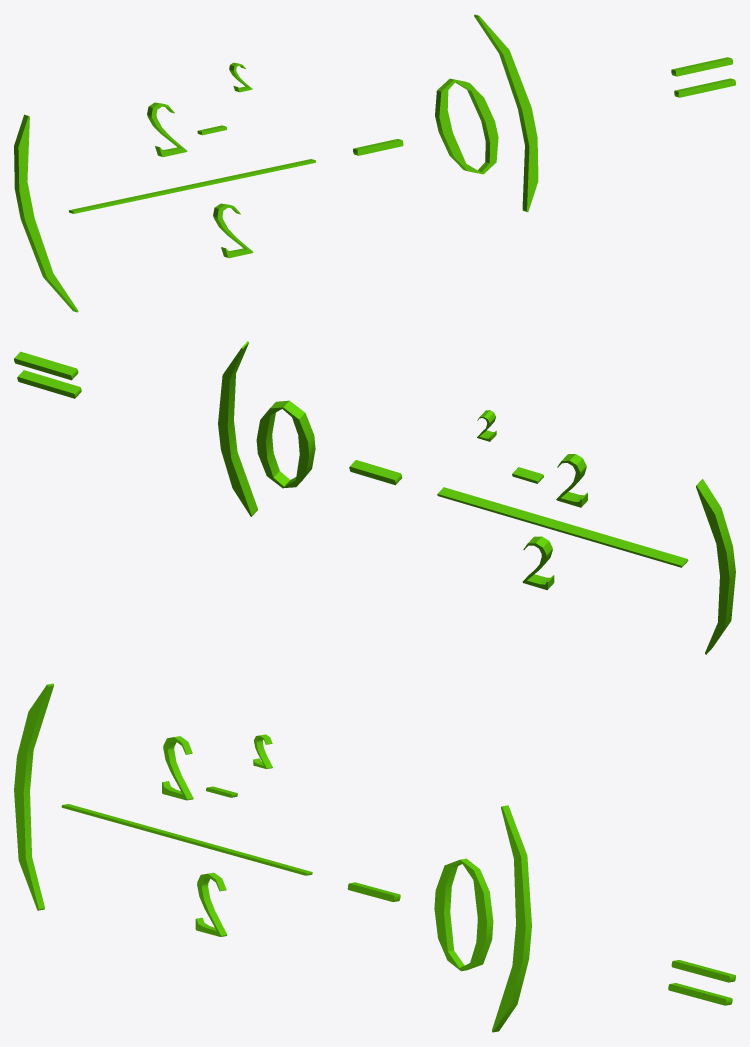
The model's file is blank_formulaC.fbx.
The picture shows the model from 3 angles, top to bottom: view 1: azimuth 30°, elevation 25°; view 2: azimuth 150°, elevation 25°; view 3: azimuth 330°, elevation 25°; orthographic projection. The views are drawn at different scales.
Parts seen in each view (by area): view 1: blank_formulaC; view 2: blank_formulaC; view 3: blank_formulaC.
Part boxes in pixels (left/top/right/bottom): blank_formulaC: left=14, top=14, right=735, bottom=312; blank_formulaC: left=14, top=341, right=735, bottom=654; blank_formulaC: left=14, top=683, right=735, bottom=1032.
Bounding box in the file's own units: 33.38 × 8.93 × 4.36.
